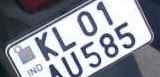0: (75, 10, 100, 36)
1: (96, 1, 115, 26)
5: (114, 22, 139, 49), (80, 41, 102, 67)
8: (99, 33, 120, 58)
K: (33, 31, 60, 61)
L: (51, 26, 78, 51)
U: (60, 52, 86, 77)
